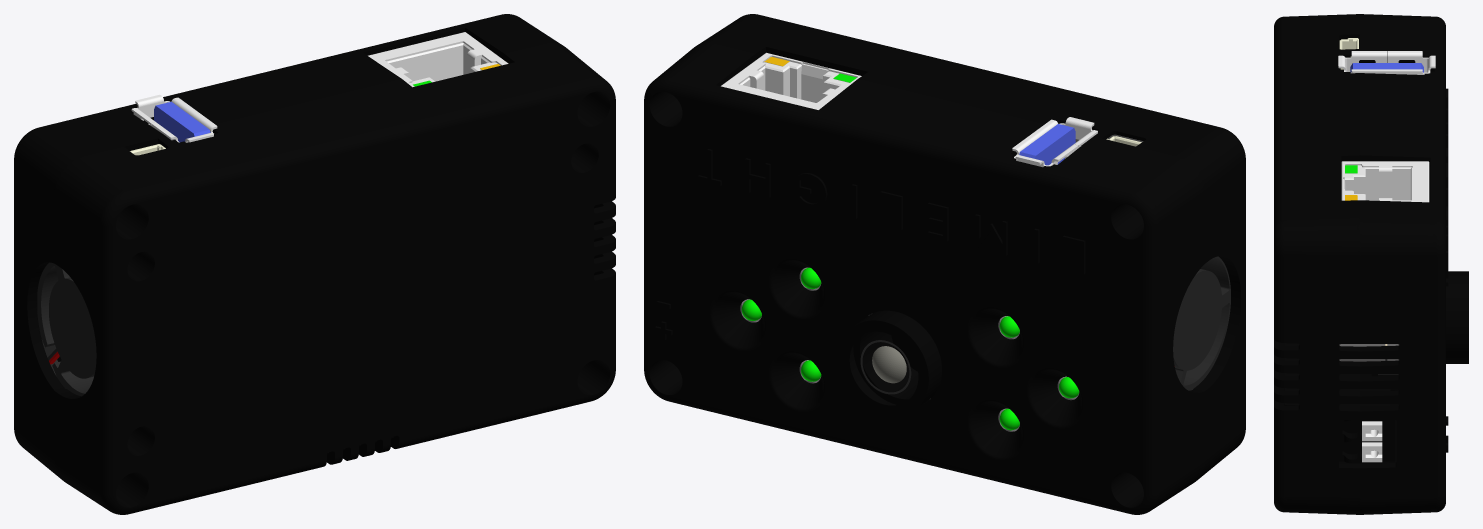
File: model_web.glb
The picture shows the model from 3 angles, left to right: view 1: azimuth 30°, elevation 25°; view 2: azimuth 150°, elevation 25°; view 3: azimuth 270°, elevation 25°; orthographic projection. The views are drawn at different scales.
Parts seen in each view (by area): view 1: Node12, Node2, Node3, Node13, Node1, Node9; view 2: Node3, Node2, Node12, Node1, Node13, Node6, Node9, Node15; view 3: Node2, Node12, Node3, Node1, Node5, Node9, Node19, Node25.
Boxes of the visible parts, x1=… form: Node12: x1=55, y1=27, x2=615, y2=514; Node2: x1=14, y1=14, x2=587, y2=189; Node3: x1=14, y1=14, x2=603, y2=478; Node13: x1=37, y1=262, x2=96, y2=396; Node1: x1=131, y1=32, x2=508, y2=142; Node9: x1=154, y1=101, x2=210, y2=142; Node3: x1=644, y1=43, x2=1204, y2=514; Node2: x1=644, y1=15, x2=1217, y2=459; Node12: x1=649, y1=14, x2=1245, y2=507; Node1: x1=721, y1=52, x2=1097, y2=167; Node13: x1=1173, y1=256, x2=1230, y2=390; Node6: x1=741, y1=73, x2=1079, y2=430; Node9: x1=1019, y1=124, x2=1075, y2=165; Node15: x1=872, y1=346, x2=906, y2=383; Node2: x1=1284, y1=16, x2=1468, y2=463; Node12: x1=1274, y1=14, x2=1430, y2=514; Node3: x1=1284, y1=14, x2=1445, y2=514; Node1: x1=1338, y1=51, x2=1435, y2=202; Node5: x1=1362, y1=421, x2=1382, y2=462; Node9: x1=1350, y1=63, x2=1423, y2=72; Node19: x1=1339, y1=344, x2=1398, y2=361; Node25: x1=1339, y1=38, x2=1358, y2=69.
Size of the model in its own units: 81.01 by 49.31 by 29.46.
